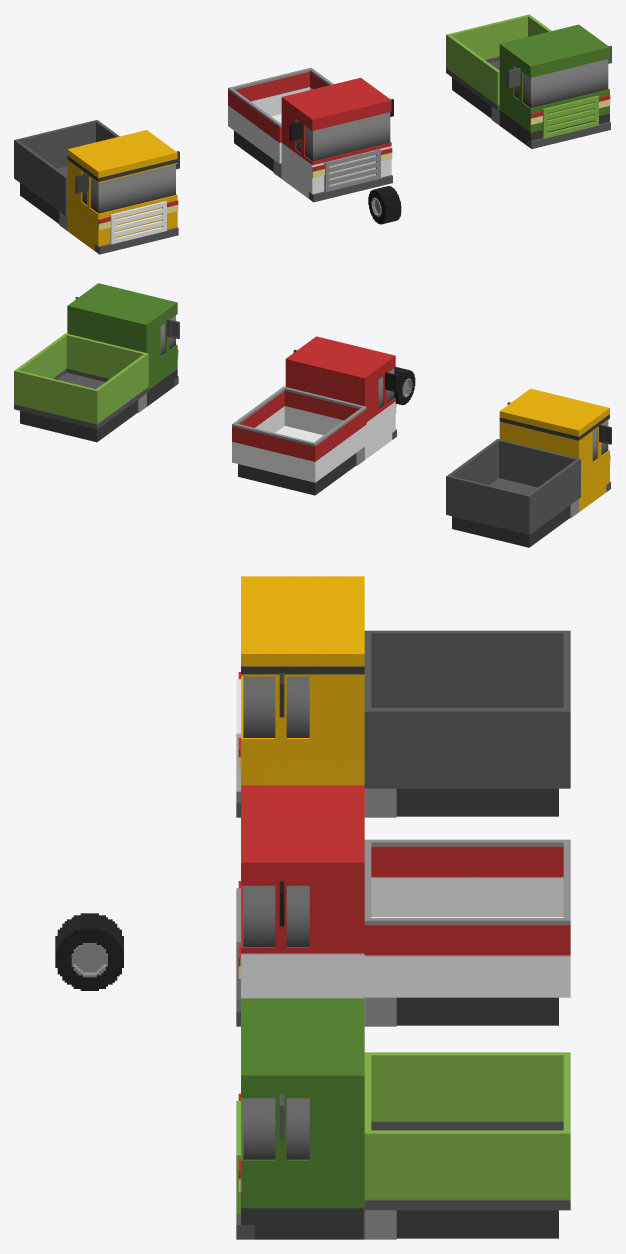
The model's file is Vehicles_05.fbx.
The picture shows the model from 3 angles, top to bottom: view 1: azimuth 30°, elevation 25°; view 2: azimuth 150°, elevation 25°; view 3: azimuth 270°, elevation 25°; orthographic projection. The views are drawn at different scales.
Parts seen in each view (by area): view 1: Service_truck_02, Service_truck_03, Service_truck_01, Wheel_01; view 2: Service_truck_01, Service_truck_02, Service_truck_03, Wheel_01; view 3: Service_truck_03, Service_truck_02, Service_truck_01, Wheel_01.
Boxes of the visible parts, <box> form: Service_truck_02: <box>228,67,393,202</box>; Service_truck_03: <box>446,14,611,148</box>; Service_truck_01: <box>14,120,179,254</box>; Wheel_01: <box>368,186,401,224</box>; Service_truck_01: <box>446,388,611,547</box>; Service_truck_02: <box>232,336,397,495</box>; Service_truck_03: <box>14,283,179,442</box>; Wheel_01: <box>394,367,415,405</box>; Service_truck_03: <box>236,998,570,1239</box>; Service_truck_02: <box>236,785,570,1026</box>; Service_truck_01: <box>236,576,570,817</box>; Wheel_01: <box>55,913,123,990</box>.
Size of the model in its own units: 540 by 79 by 225.
